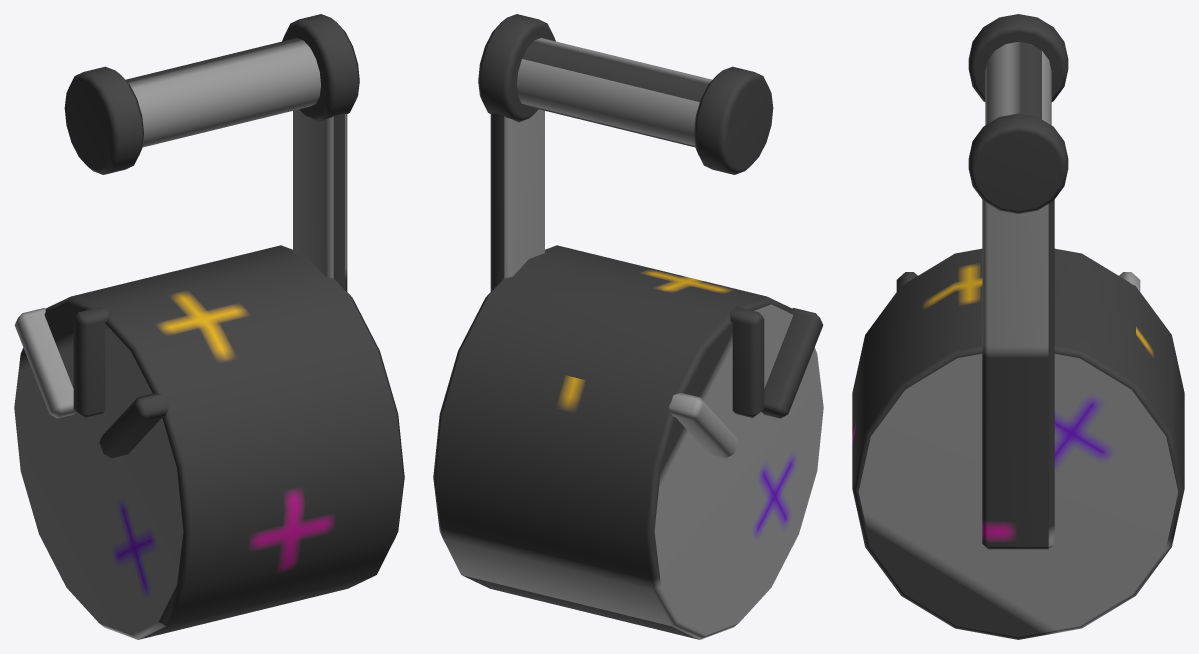
Rendered from NavigationLever.glb.
3 views of the same model, side by side, from view 1: azimuth 30°, elevation 25°; view 2: azimuth 150°, elevation 25°; view 3: azimuth 270°, elevation 25° (orthographic). The views are drawn at different scales.
Visible parts, largest first — view 1: NavigationLever; view 2: NavigationLever; view 3: NavigationLever.
Boxes of the visible parts, x1,y1,x2,y2 form: NavigationLever: (14,14,404,639); NavigationLever: (433,14,823,639); NavigationLever: (852,14,1184,639).
Size of the model in its own units: 0.235 by 0.4788 by 0.275.
1 material, 1 textured.
